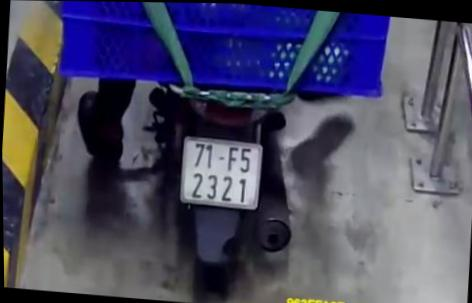LP: (177, 133, 264, 211)
